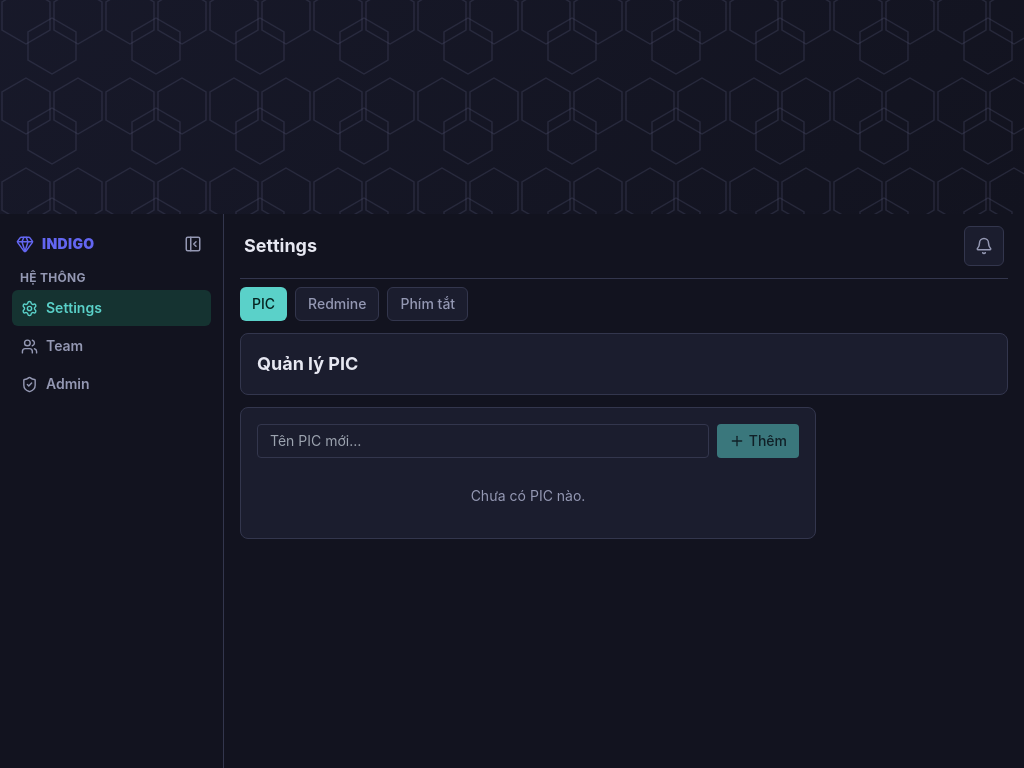
App() — ẩn tab theo team_feature_visibility (CR-20260913 FR-7) › 2026-09-25: Admin bật feature ở màn Hiển thị chức năng -> tab hiện ngay trên nav, không cần F5
(page scrolled)
Expected: the button "Projects" is not shown
Click the button "Admin".
click(112, 384)  # box [12,366,211,402]
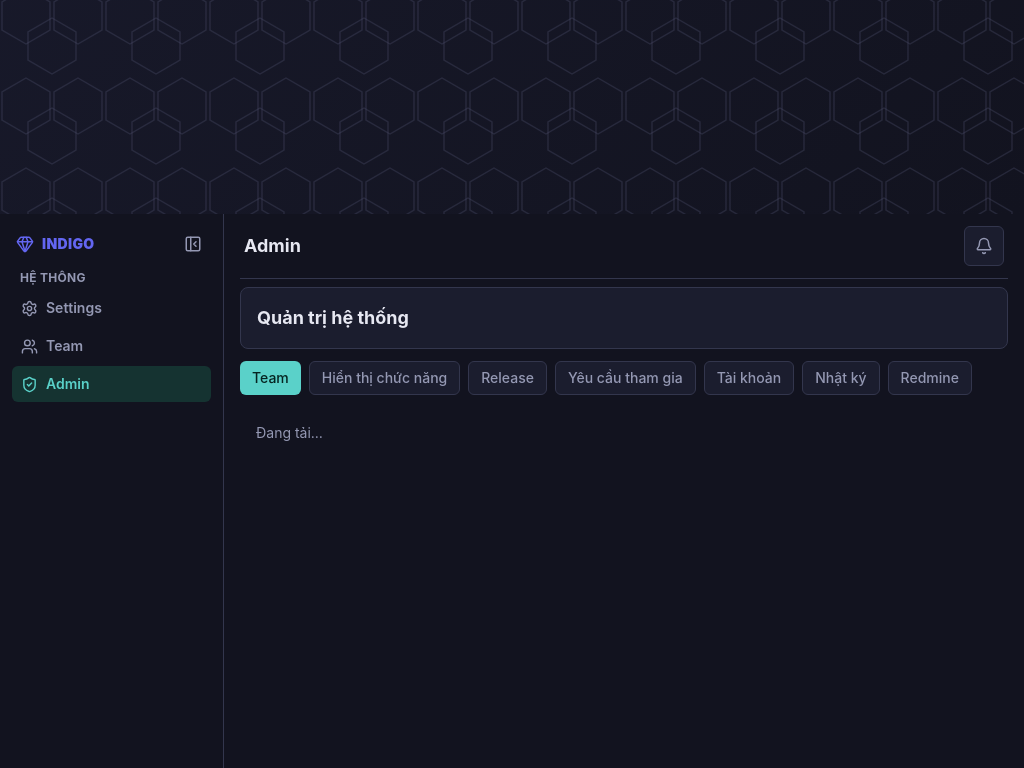
Now the button "Hiển thị chức năng" is shown
Click the button "Hiển thị chức năng".
click(384, 378)  # box [309,361,460,395]
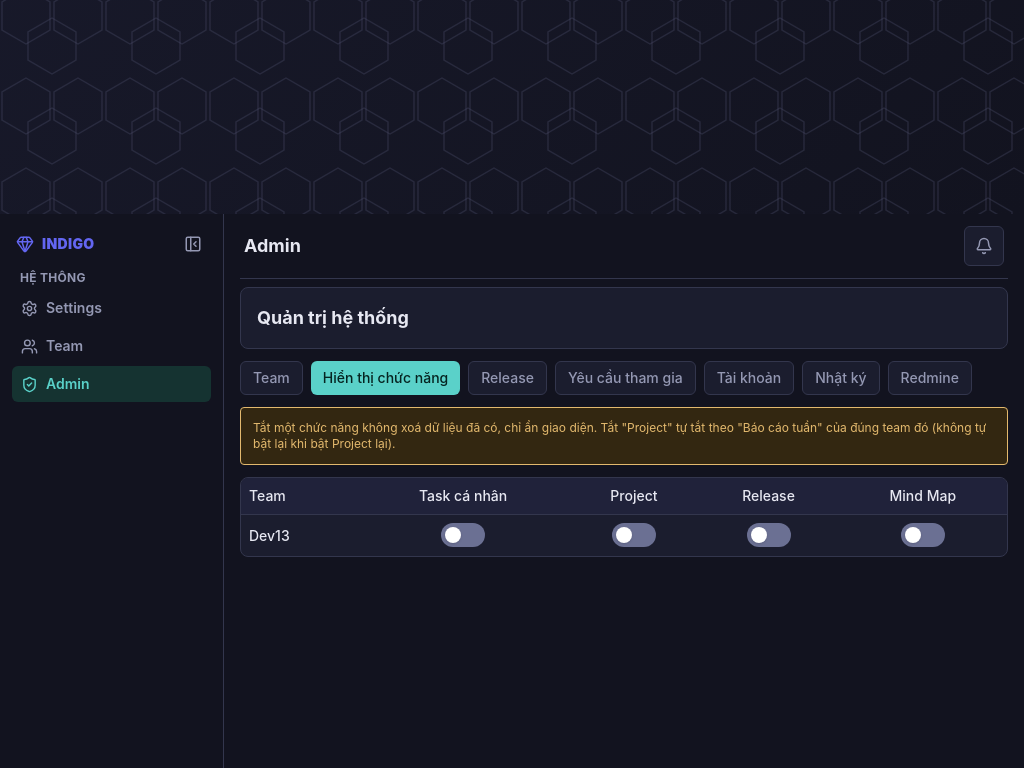
Now the switch named "Project — Dev13" is shown
Click the switch named "Project — Dev13".
click(634, 535)  # box [612,523,656,547]
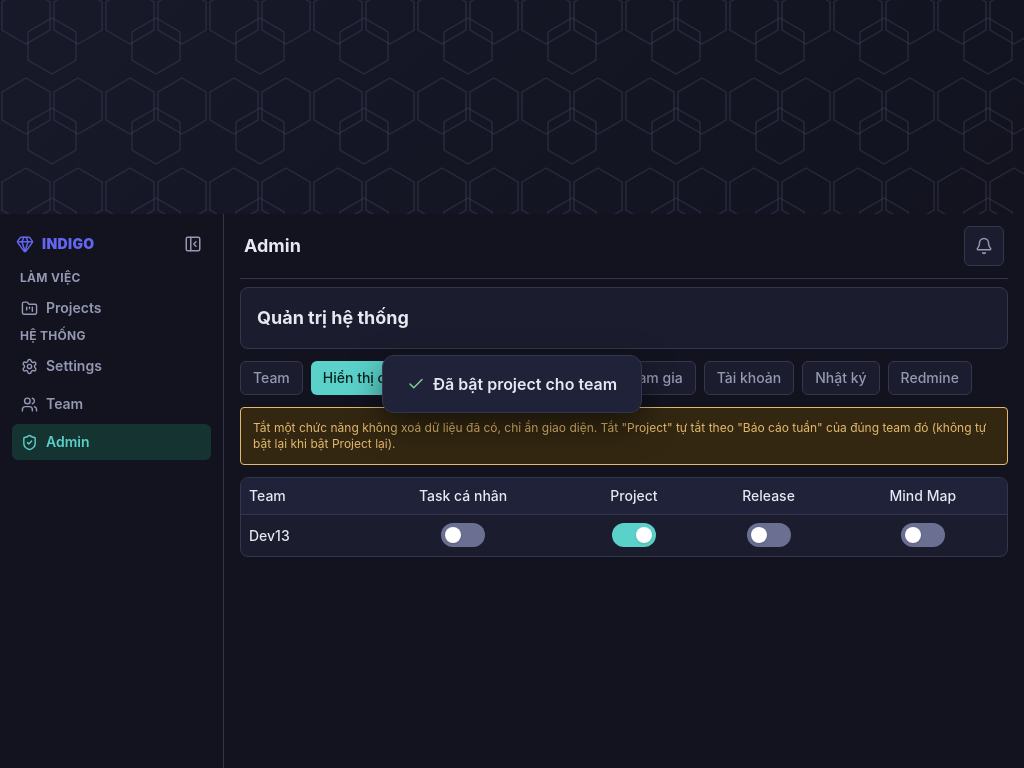
Now the button "Projects" is shown, box [12,290,211,326]
